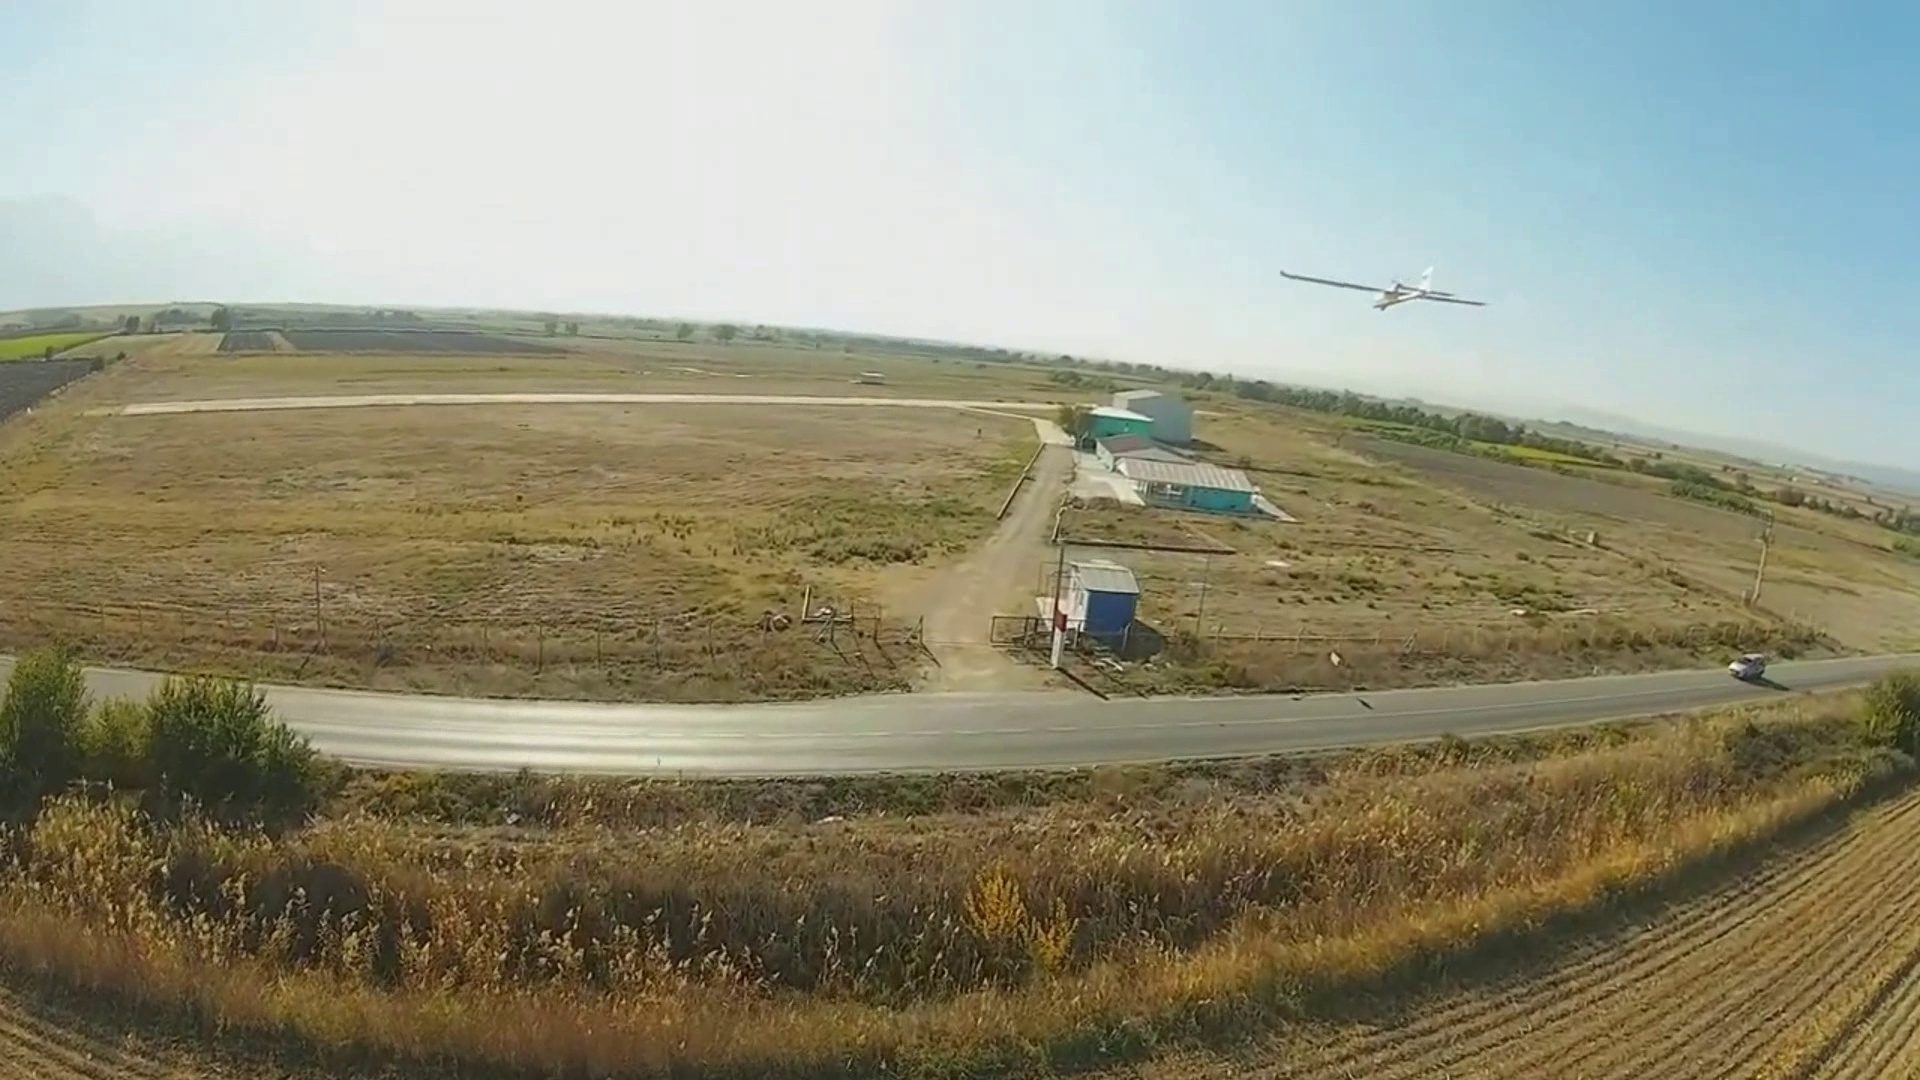airplane: (1278, 264, 1491, 313)
